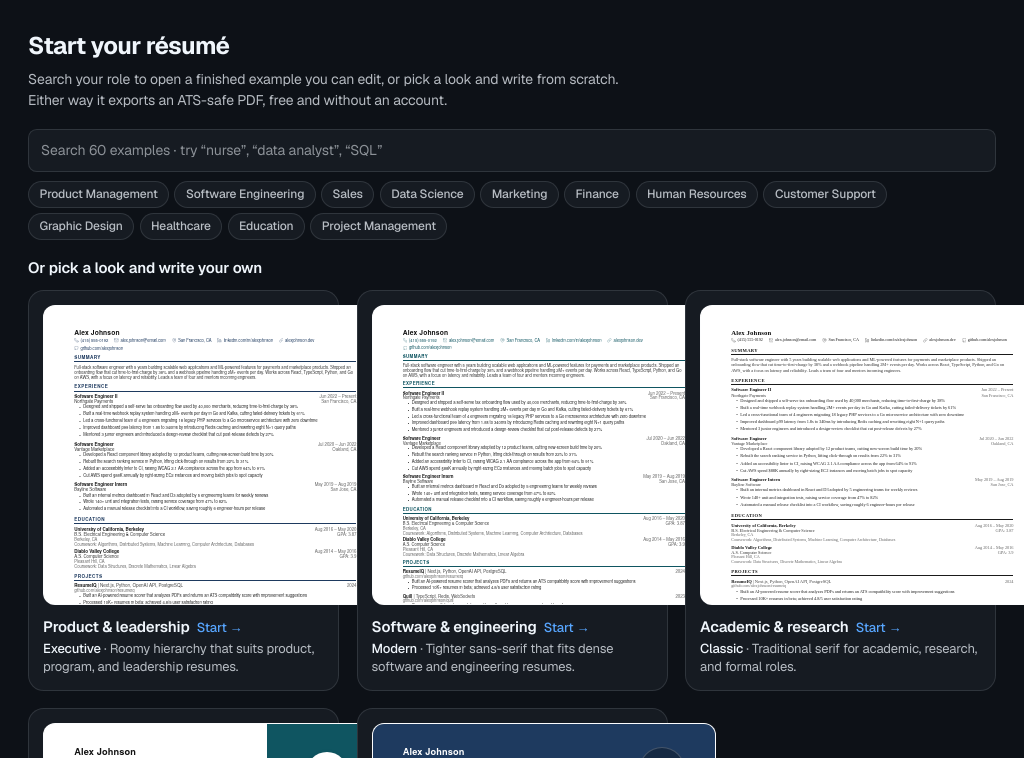
the cold open can find your role › says so rather than showing an empty grid when nothing matches
Type "zzzznotarole" into the search field with placeholder "Search 60 examples · try “nurse”, “data analyst”, “SQL”" at (512, 150), box [28,129,996,172]
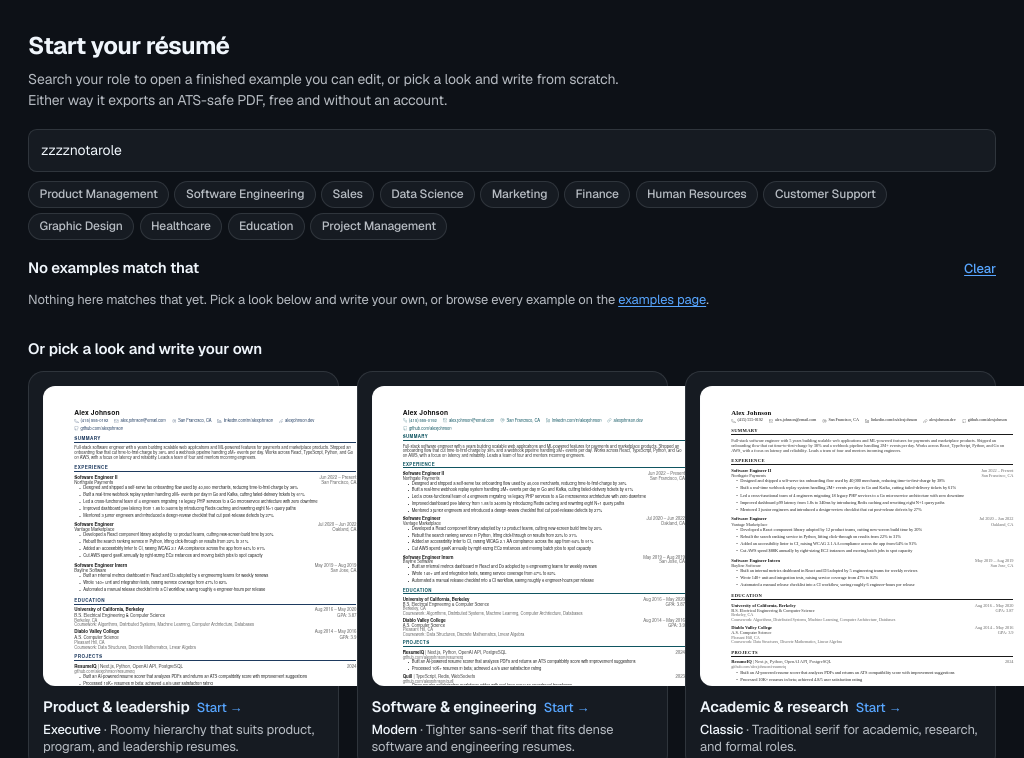
Check: the heading "No examples match that" is shown, box [28,257,199,280]
